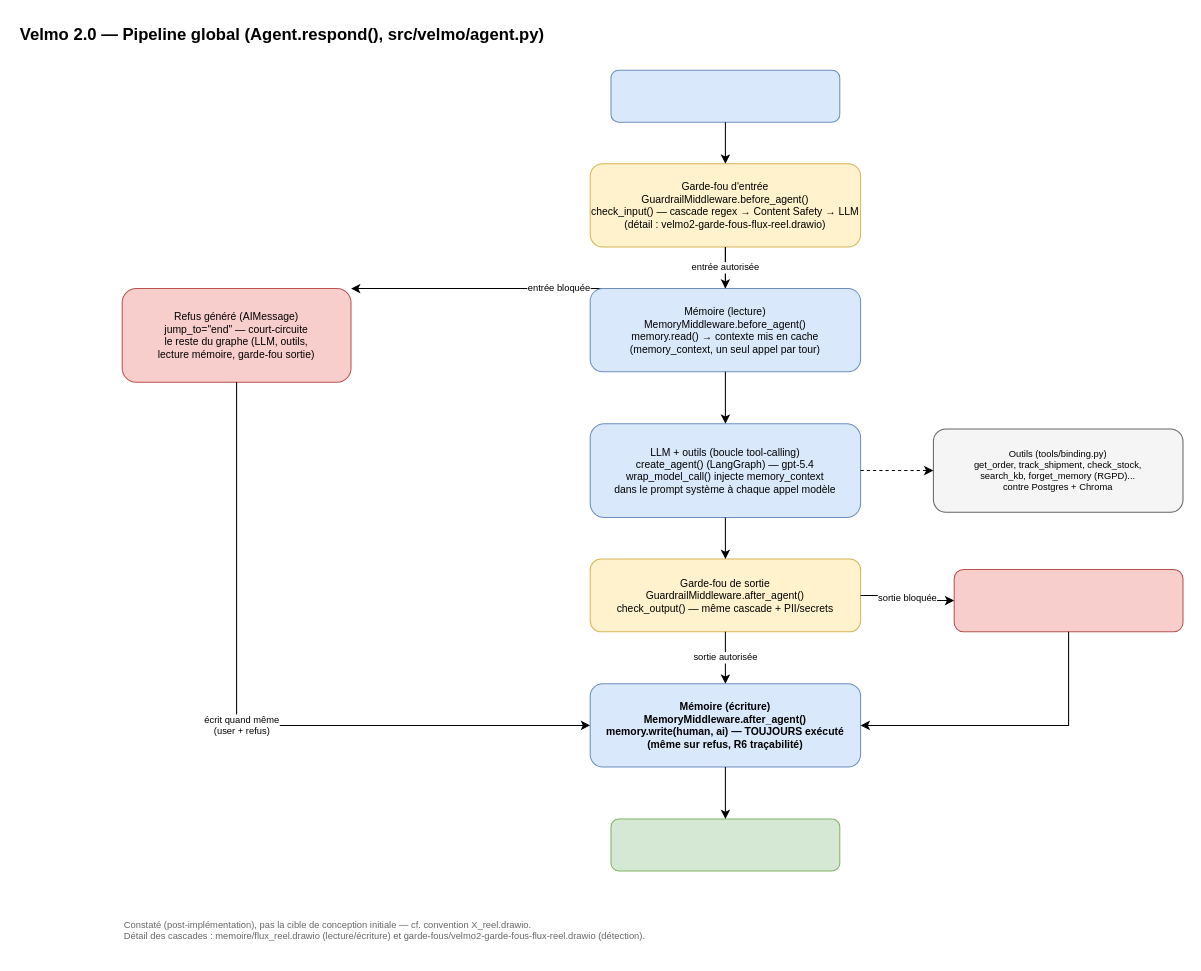
Some shapes in this 1201 by 971 pixel diagram are drawn without their labels. Here are the shapes that lost their labels. From the top down, the centre of each, then its label:
At (725,95): "Message utilisateur (entrée)".
At (1068,600): "Remplace le contenu (même id de message)".
At (725,844): "Réponse (sortie)".
